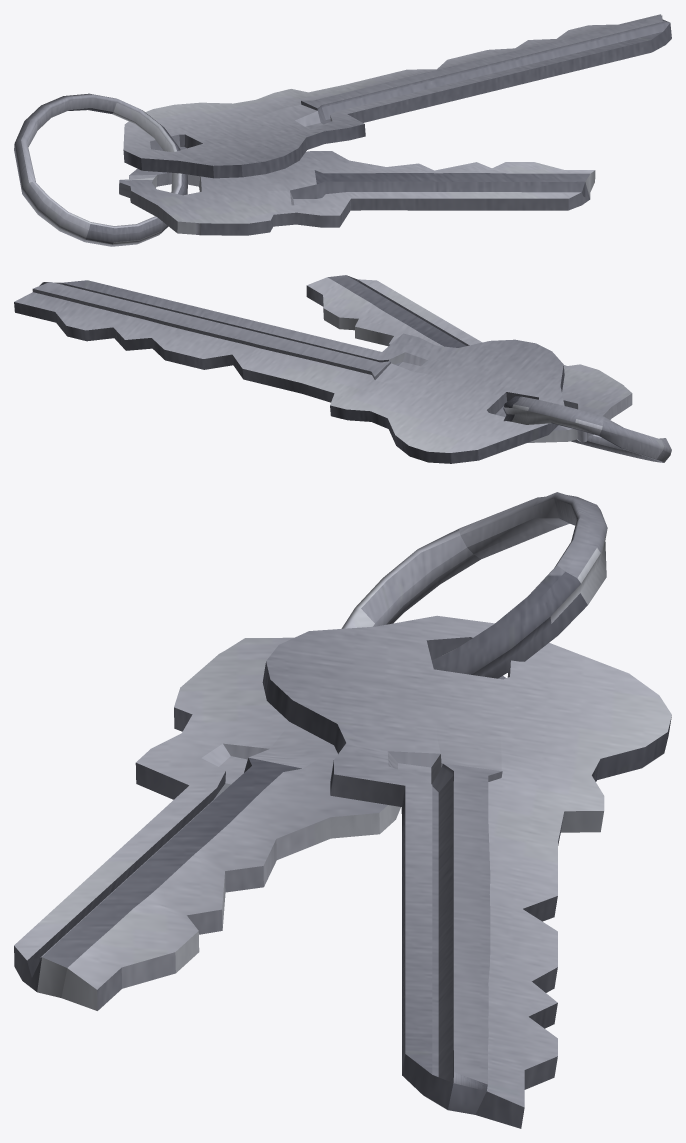
File: keys.fbx
3 views of the same model, one above another, from view 1: azimuth 30°, elevation 25°; view 2: azimuth 150°, elevation 25°; view 3: azimuth 270°, elevation 25° (orthographic). The views are drawn at different scales.
Visible parts, largest first — view 1: metal_keys; view 2: metal_keys; view 3: metal_keys.
Boxes of the visible parts, box(x1,y1,x2,y2) form: metal_keys: box(14, 14, 671, 246); metal_keys: box(14, 275, 671, 463); metal_keys: box(14, 492, 671, 1128).
Bounding box in the file's own units: 18.32 × 2.67 × 8.82.
1 material, 1 textured.
